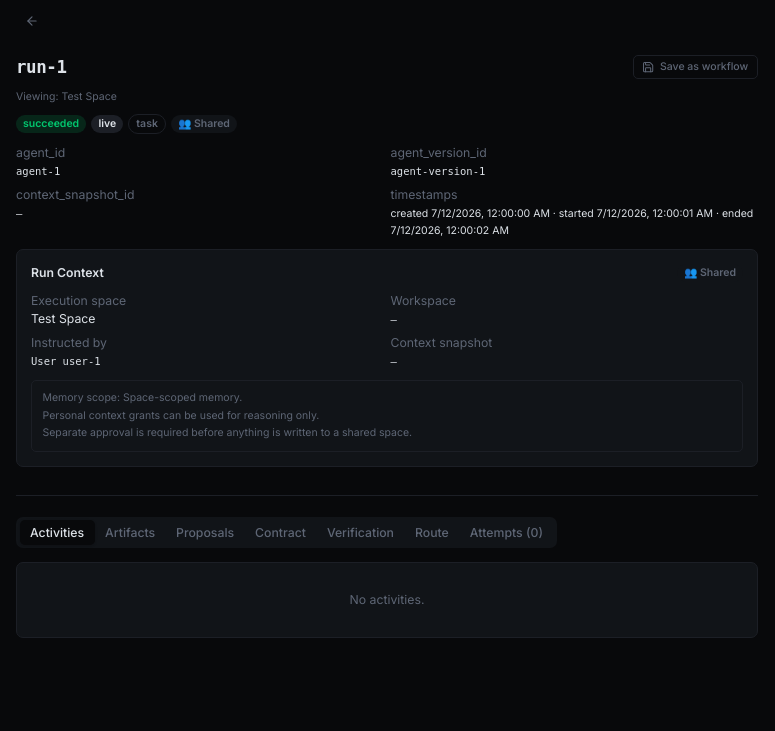
Scenario: RunDetailPage route decision panel › renders the persisted decision when the route API returns one
Click the tab "Route" at [432, 532], box [404,520,459,544]
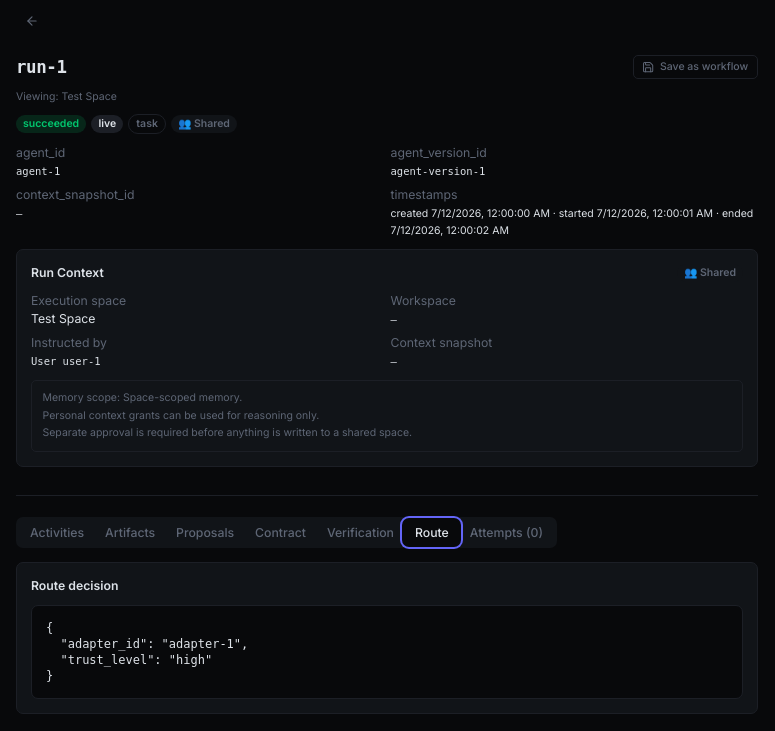
Expected: the text "{ \"adapter_id\": \"adapter-1\", \"trust_level\": \"high\" }" is shown, [31,605,743,699]
